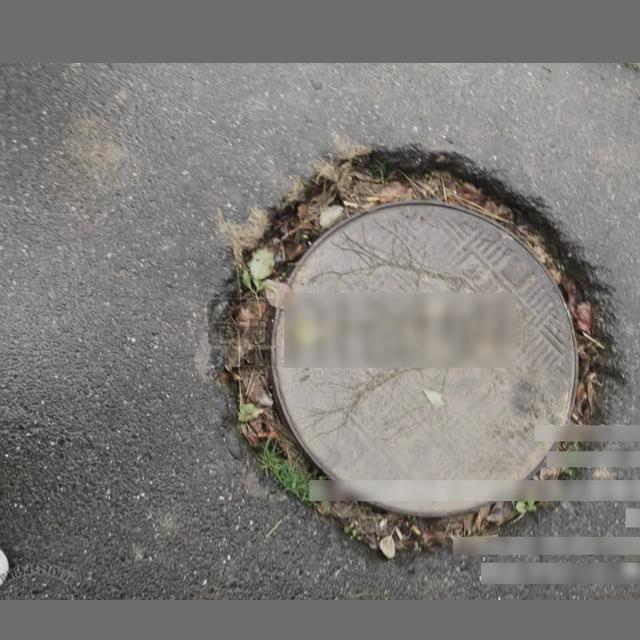circle: (208, 150, 628, 553)
